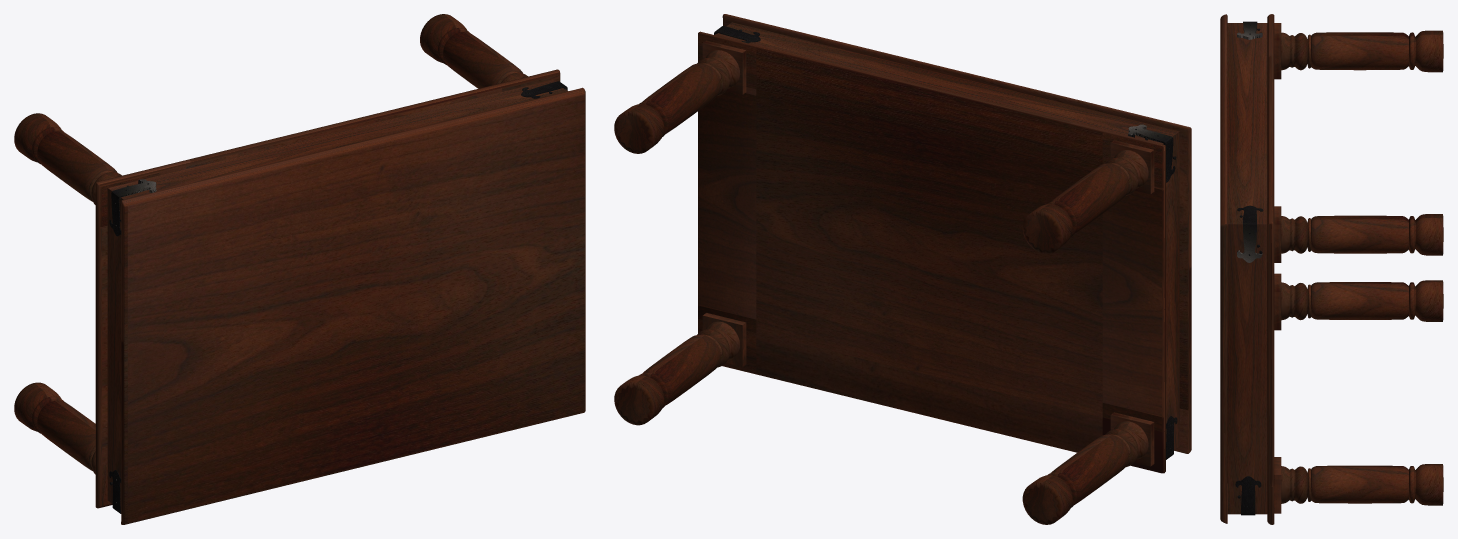
The model's file is alba_sheeshamcofee_table.obj.
3 views of the same model, side by side, from view 1: azimuth 30°, elevation 25°; view 2: azimuth 150°, elevation 25°; view 3: azimuth 270°, elevation 25° (orthographic). The views are drawn at different scales.
Visible parts, largest first — view 1: Cube_Cube.002, Cube.001_Cube.003, Cube.002_Cube.004, Sphere.001_Sphere.006, Sphere.002_Sphere.005, Sphere.004_Sphere.007, Plane.002_Plane.003; view 2: Cube.002_Cube.004, Cube.001_Cube.003, Cube_Cube.002, Sphere.001_Sphere.006, Sphere.002_Sphere.005, Sphere.000_Sphere.004, Sphere.004_Sphere.007, Cube.006_Cube.008, Cube.005_Cube.007, Cube.003_Cube.005, Cube.004_Cube.006, Plane.002_Plane.003; view 3: Cube.001_Cube.003, Sphere.000_Sphere.004, Sphere.002_Sphere.005, Sphere.001_Sphere.006, Sphere.004_Sphere.007, Cube.002_Cube.004, Cube_Cube.002, Plane.003_Plane.004, Plane.001_Plane.002, Cube.004_Cube.006, Cube.006_Cube.008, Cube.003_Cube.005 (+2 smaller).
Boxes of the visible parts, bbox=[...] form: Cube_Cube.002: bbox=[121, 87, 585, 524]; Cube.001_Cube.003: bbox=[107, 79, 568, 509]; Cube.002_Cube.004: bbox=[95, 69, 560, 508]; Sphere.001_Sphere.006: bbox=[14, 113, 121, 204]; Sphere.002_Sphere.005: bbox=[420, 14, 527, 88]; Sphere.004_Sphere.007: bbox=[14, 382, 95, 474]; Plane.002_Plane.003: bbox=[109, 179, 156, 236]; Cube.002_Cube.004: bbox=[698, 31, 1165, 473]; Cube.001_Cube.003: bbox=[715, 22, 1179, 449]; Cube_Cube.002: bbox=[722, 14, 1191, 453]; Sphere.001_Sphere.006: bbox=[1022, 150, 1148, 253]; Sphere.002_Sphere.005: bbox=[614, 50, 739, 153]; Sphere.000_Sphere.004: bbox=[614, 321, 739, 425]; Sphere.004_Sphere.007: bbox=[1022, 421, 1148, 524]; Cube.006_Cube.008: bbox=[702, 40, 746, 94]; Cube.005_Cube.007: bbox=[1110, 140, 1154, 194]; Cube.003_Cube.005: bbox=[702, 313, 746, 366]; Cube.004_Cube.006: bbox=[1110, 412, 1154, 466]; Plane.002_Plane.003: bbox=[1128, 124, 1175, 182]; Cube.001_Cube.003: bbox=[1227, 23, 1267, 514]; Sphere.000_Sphere.004: bbox=[1281, 464, 1443, 505]; Sphere.002_Sphere.005: bbox=[1281, 214, 1443, 255]; Sphere.001_Sphere.006: bbox=[1281, 30, 1443, 72]; Sphere.004_Sphere.007: bbox=[1281, 280, 1443, 321]; Cube.002_Cube.004: bbox=[1267, 14, 1274, 524]; Cube_Cube.002: bbox=[1220, 14, 1227, 523]; Plane.003_Plane.004: bbox=[1237, 205, 1263, 262]; Plane.001_Plane.002: bbox=[1235, 476, 1261, 515]; Cube.004_Cube.006: bbox=[1274, 273, 1281, 330]; Cube.006_Cube.008: bbox=[1274, 206, 1281, 262]; Cube.003_Cube.005: bbox=[1274, 457, 1281, 513].
Bounding box in the file's own units: 35.04 × 23.5 × 15.74.
Materials: 5 (5 with a texture image).
